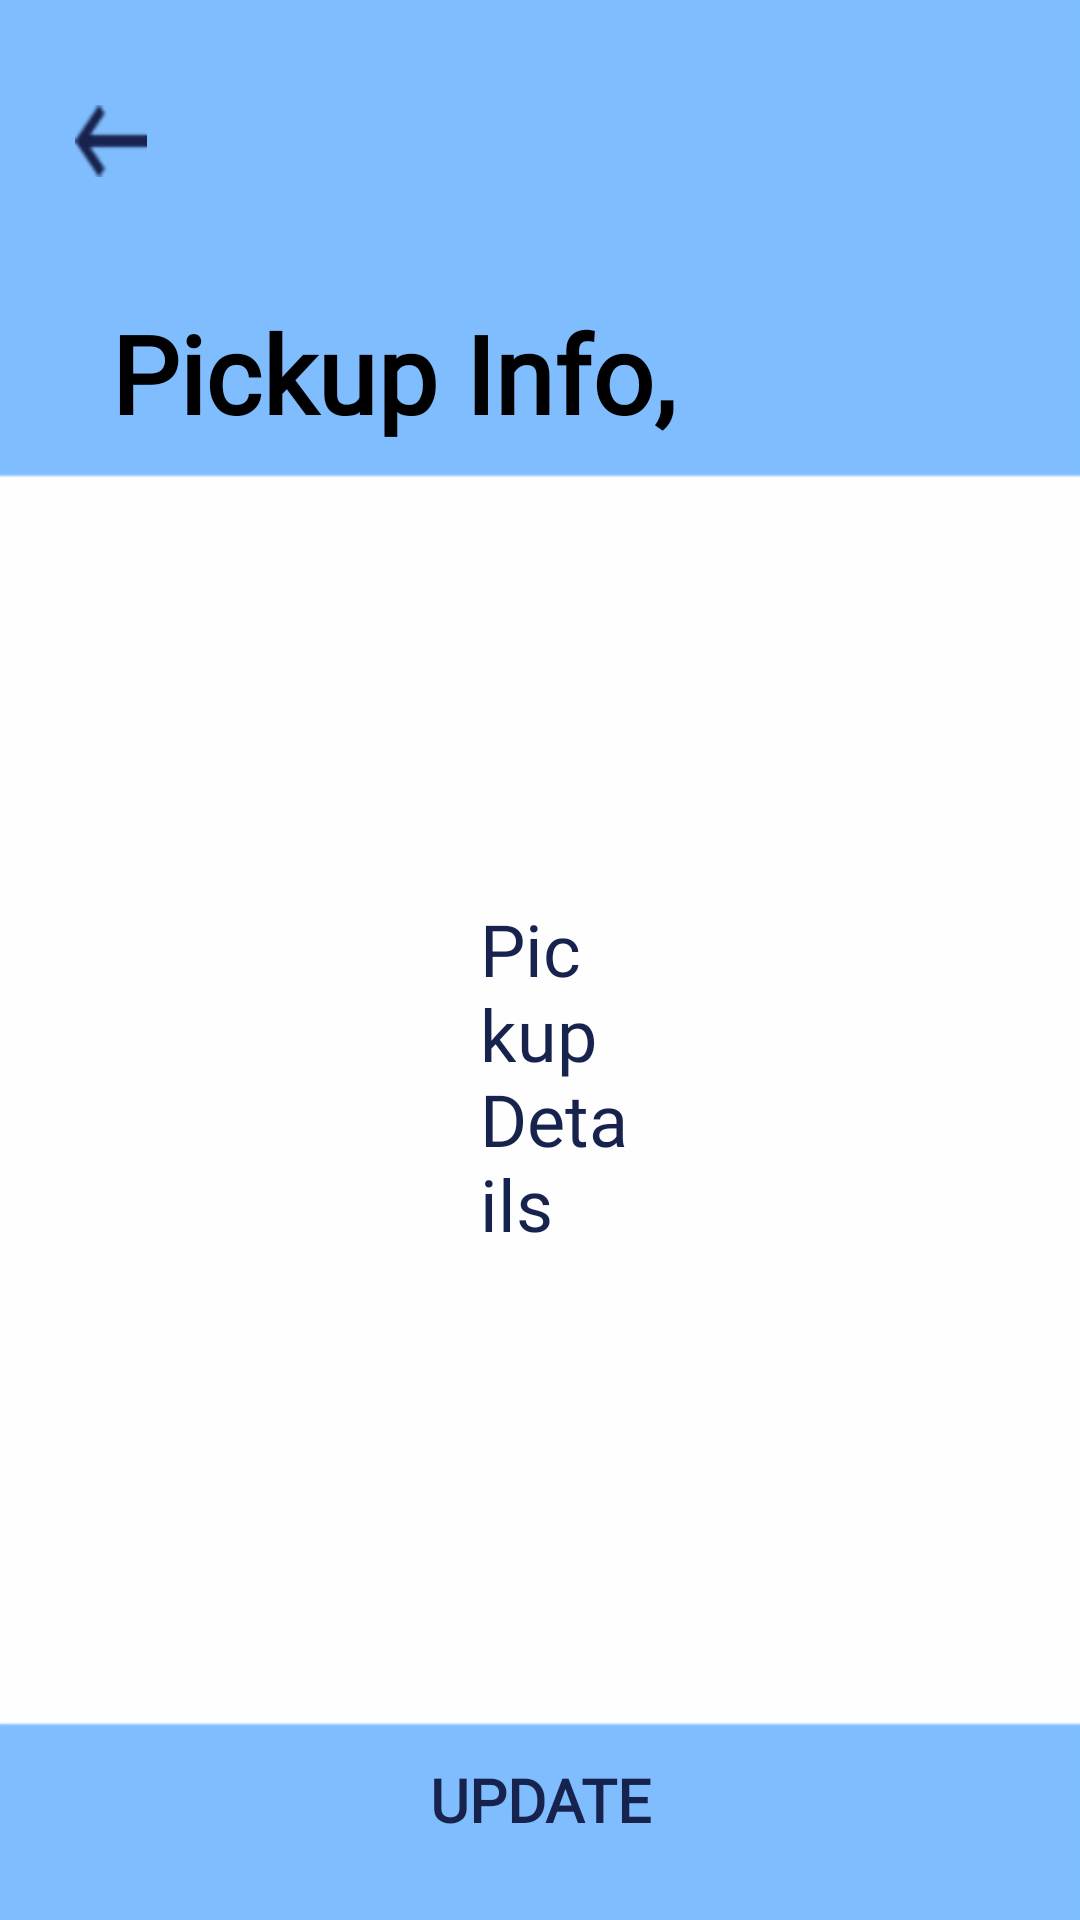

Screen size 1080*1920. Icon name, then its box in pixels as (x1, y1, x2, y2):
back arrow: (75, 105, 147, 177)
